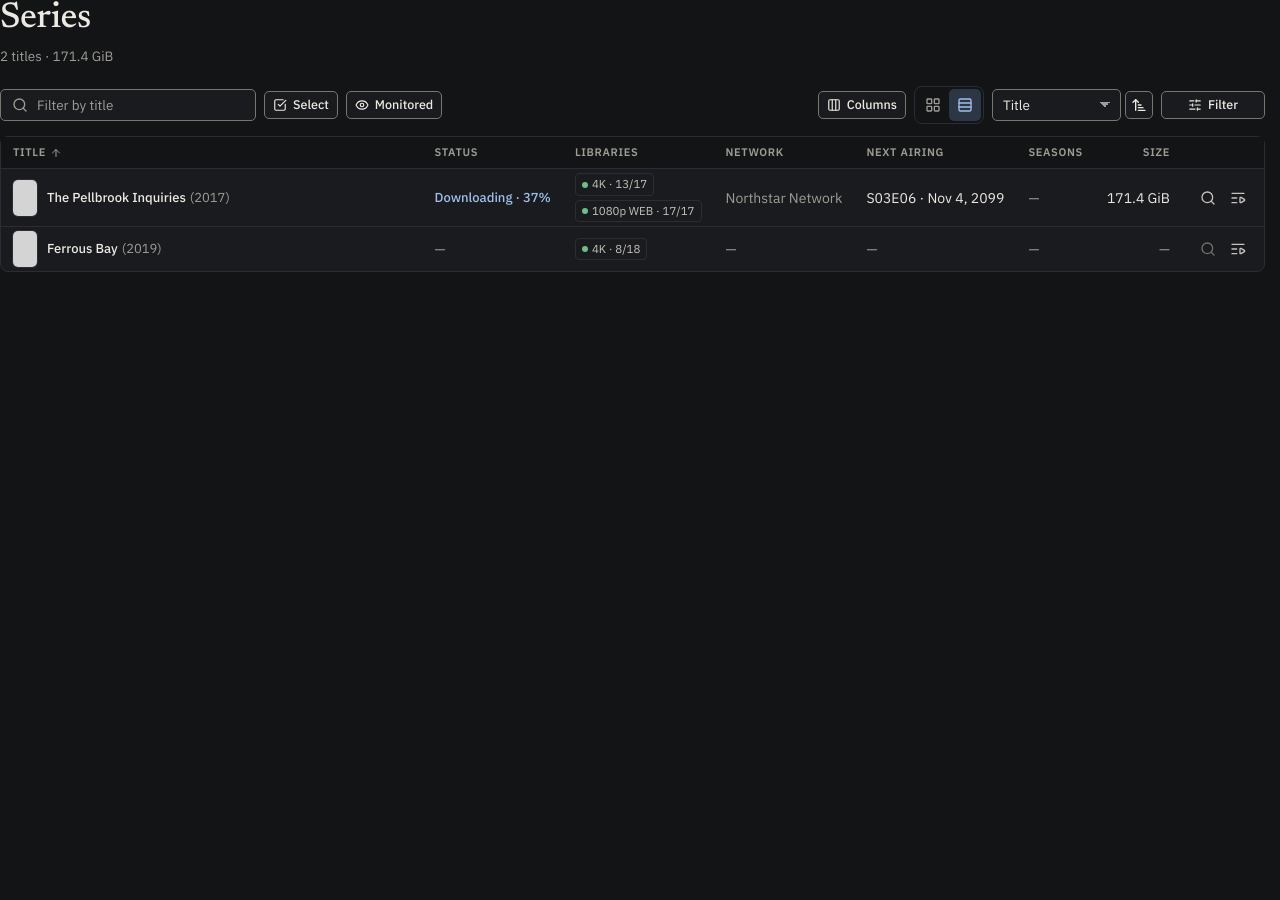
Test: Library table › selects titles, previews with unchanged copies apart, and applies with expect
Click the button "Select". click: (301, 105)
box: [264,91,338,119]
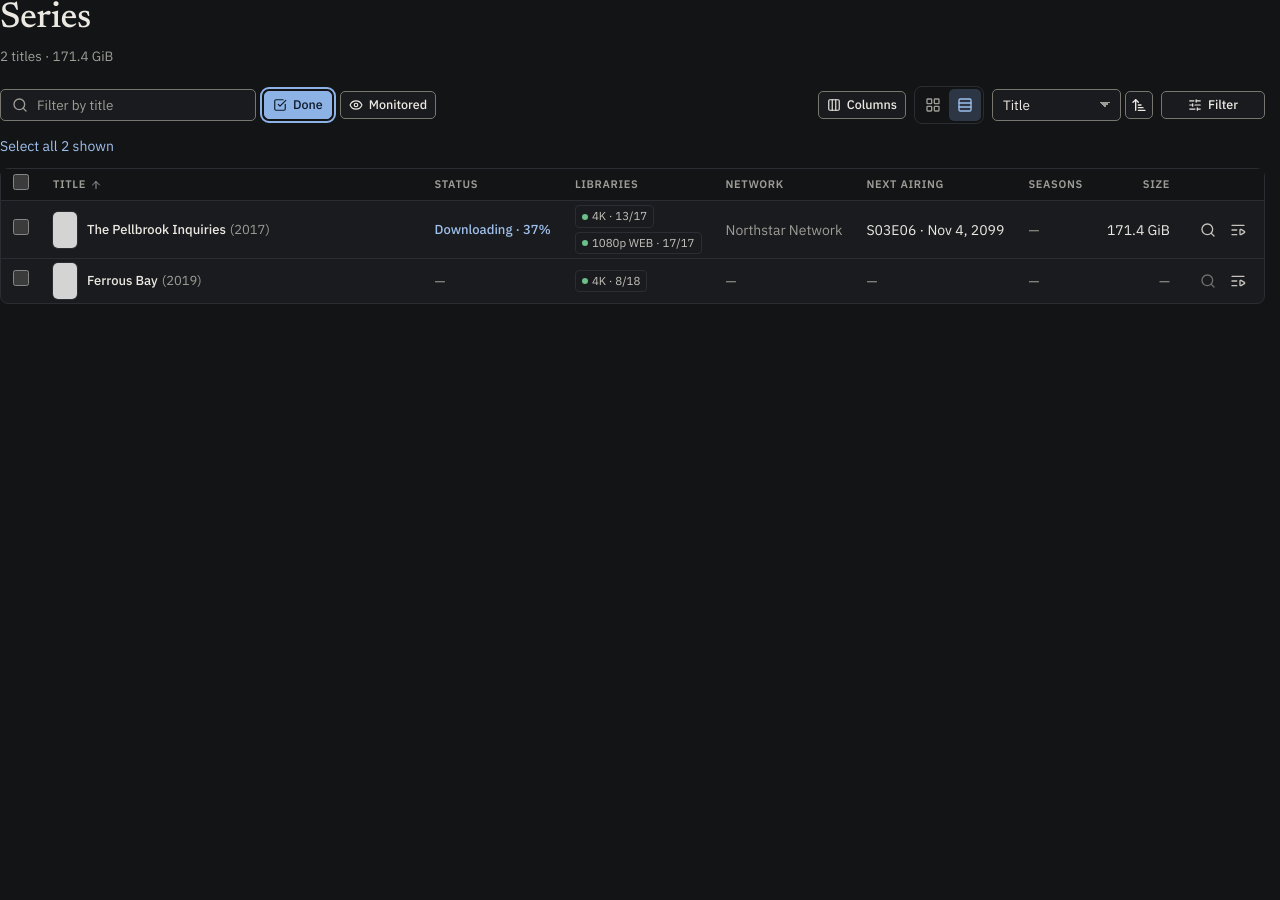
Click the checkbox named "Select all 2 shown". click: (21, 182)
box: [13,174,29,190]
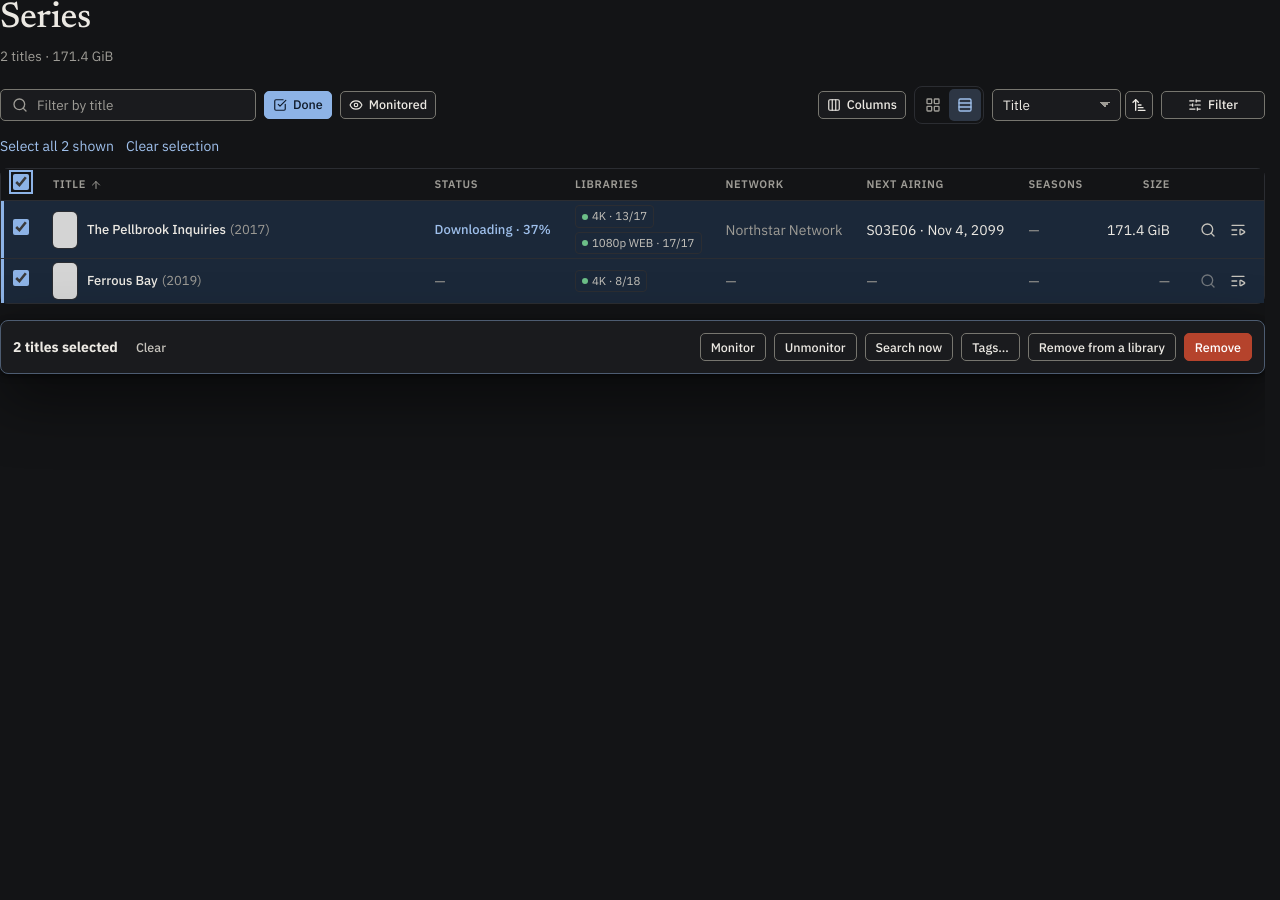
expect the number of checkboxes named "Select all 2 shown" is 3: met, box [13,174,29,190]; [13,219,29,235]; [13,270,29,286]
expect the text "2 titles selected" is shown: met, box [13,337,118,357]
expect the button "Search now" is shown: met, box [864,333,953,361]
Click the button "Monitor". click: (733, 347)
box: [700,333,766,361]
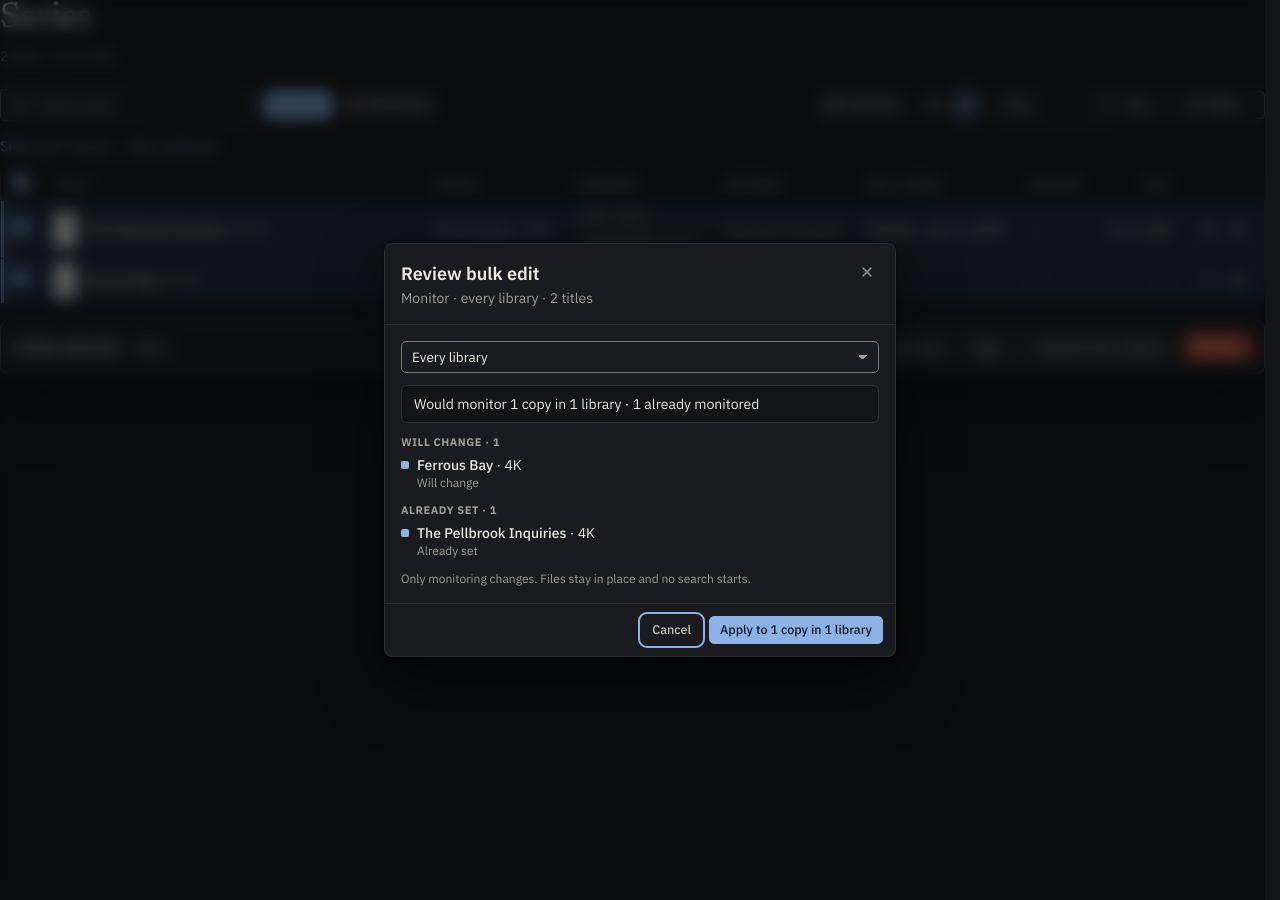
Select "4K" in the dropdown named "Libraries". click: (640, 357)
box: [401,341,879,373]
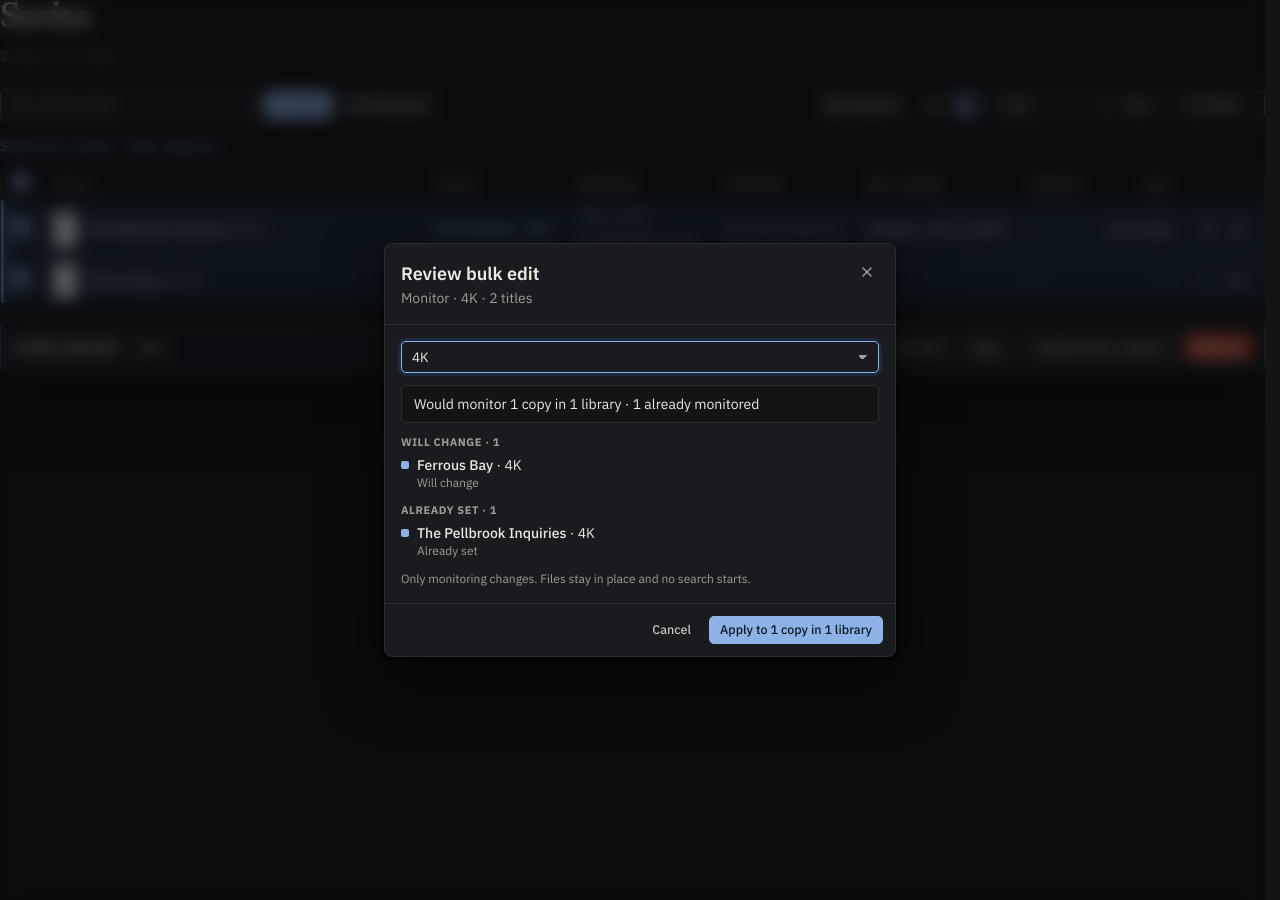
expect the text "Would monitor 1 copy in 1 library · 1 already monitored" is shown: met, box [401,385,879,423]
expect the text "The Pellbrook Inquiries" is shown: met, box [417,524,566,542]
Click the button "Apply to 1 copy in 1 library". click: (796, 630)
box: [709,616,883,644]
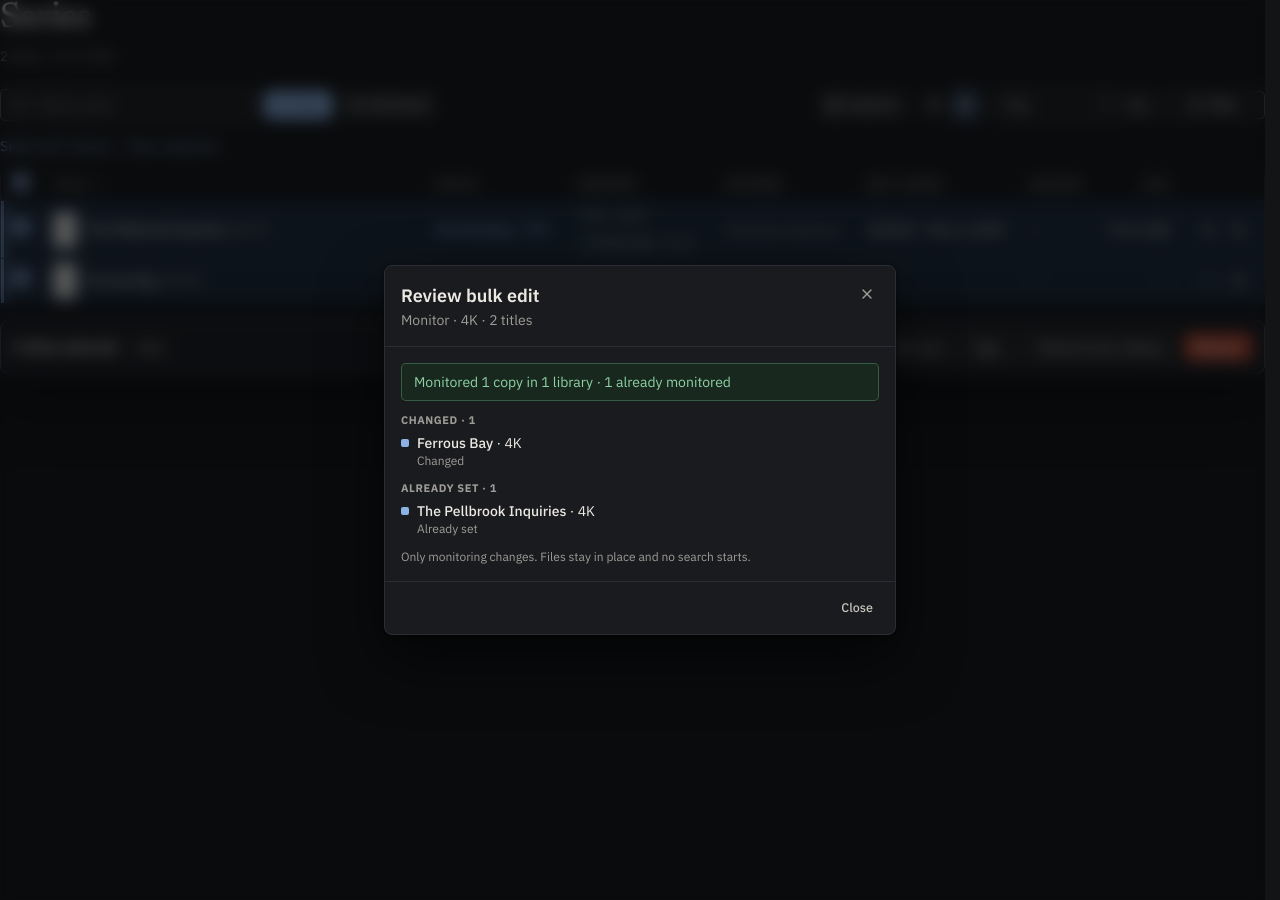
expect the text "Monitored 1 copy in 1 library · 1 already monitored" is shown: met, box [401,363,879,401]
